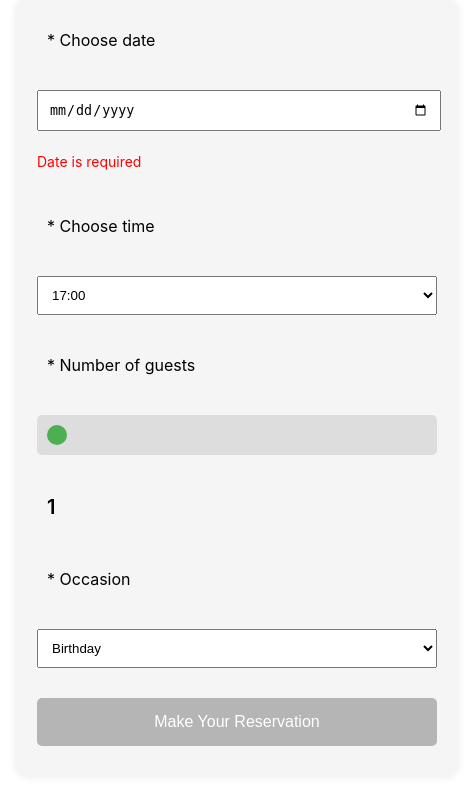
it: Booking Component › updates guests number
Set the slider labelled "* Number of guests" to "5" at x=216, y=435, box [37,415,437,455]
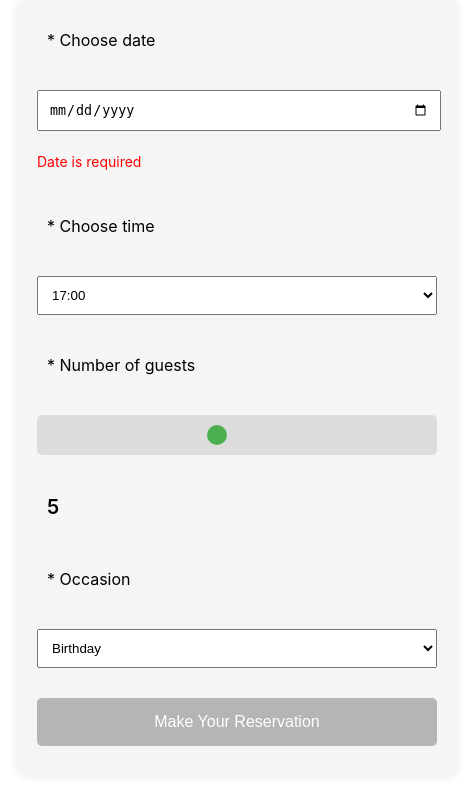
expect the text "5" is shown: met, box [47,495,59,519]
